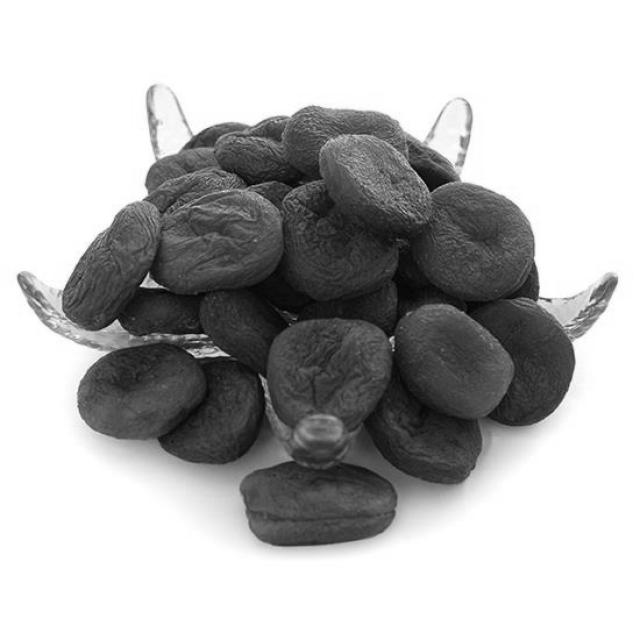Kayisi: (241, 466, 398, 551), (270, 322, 386, 435), (76, 336, 202, 440), (65, 199, 163, 323), (398, 304, 506, 410)
